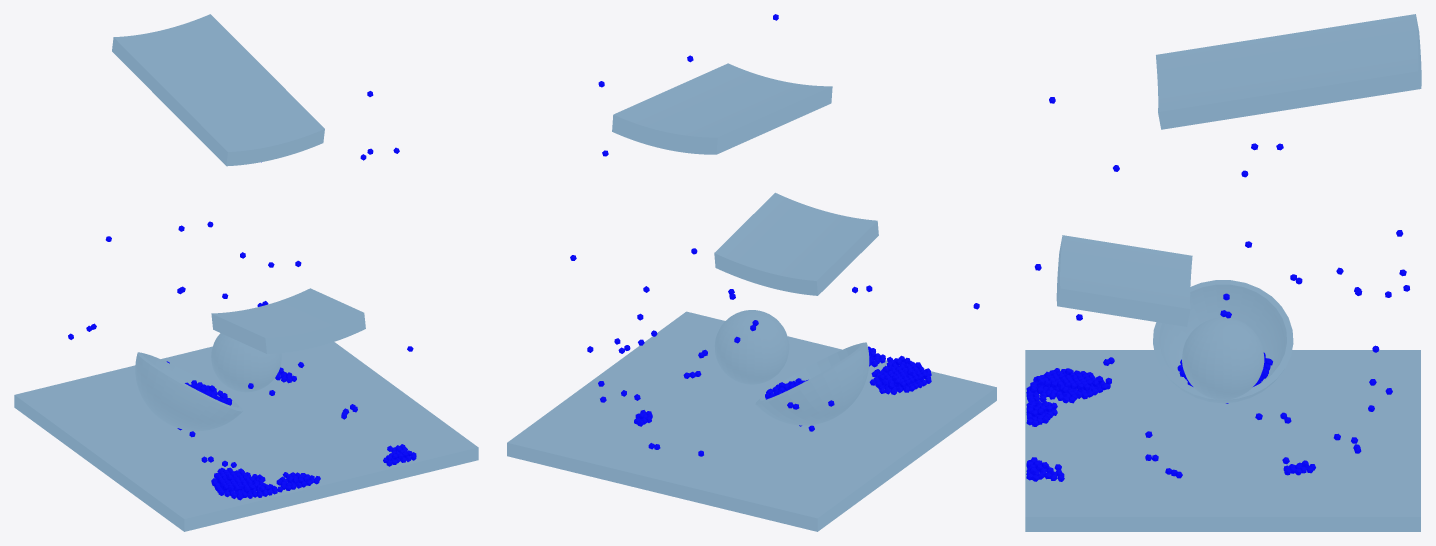
The picture shows the model from 3 angles, left to right: view 1: azimuth 30°, elevation 25°; view 2: azimuth 150°, elevation 25°; view 3: azimuth 270°, elevation 25°; orthographic projection. The views are drawn at different scales.
Bounding box in the file's own units: 12 × 13.58 × 12.02.
